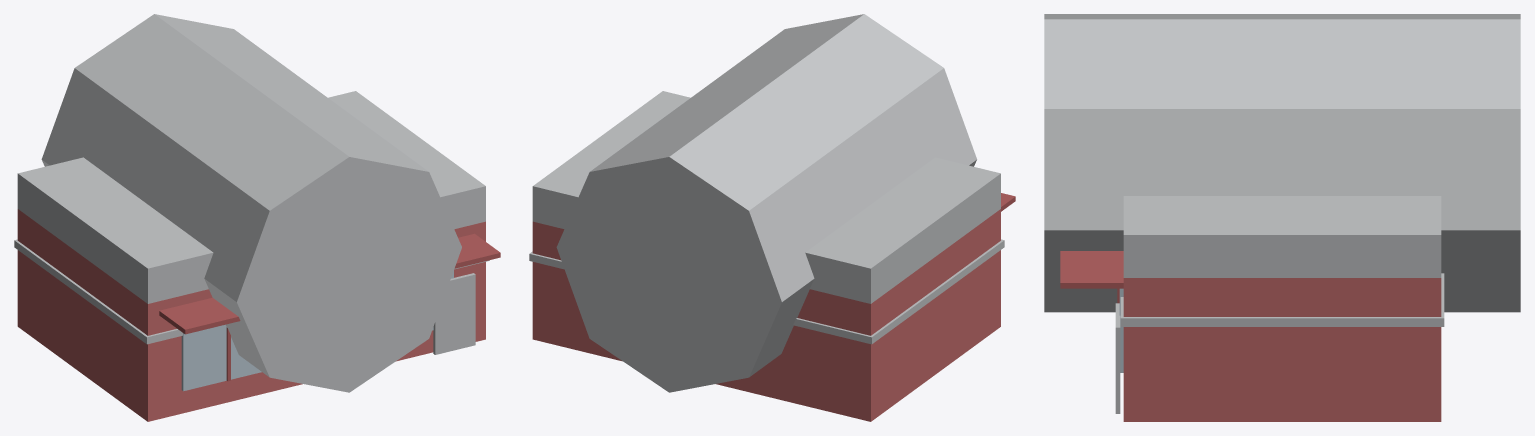
Rendered from building-diner.glb.
The picture shows the model from 3 angles, left to right: view 1: azimuth 30°, elevation 25°; view 2: azimuth 150°, elevation 25°; view 3: azimuth 270°, elevation 25°; orthographic projection. The views are drawn at different scales.
Visible parts, largest first — view 1: building-diner_part_3, building-diner_part_0, building-diner_part_2, building-diner_part_4, building-diner_part_8, building-diner_part_9, building-diner_part_1; view 2: building-diner_part_3, building-diner_part_0, building-diner_part_2, building-diner_part_1; view 3: building-diner_part_3, building-diner_part_0, building-diner_part_2, building-diner_part_1, building-diner_part_8, building-diner_part_9.
Part boxes in pixels (x1=…): building-diner_part_3: x1=41, y1=14, x2=461, y2=392; building-diner_part_0: x1=17, y1=209, x2=485, y2=421; building-diner_part_2: x1=17, y1=91, x2=485, y2=303; building-diner_part_4: x1=181, y1=271, x2=453, y2=391; building-diner_part_8: x1=159, y1=233, x2=500, y2=334; building-diner_part_9: x1=433, y1=273, x2=475, y2=354; building-diner_part_1: x1=14, y1=239, x2=489, y2=344; building-diner_part_3: x1=556, y1=14, x2=976, y2=392; building-diner_part_0: x1=532, y1=209, x2=1000, y2=421; building-diner_part_2: x1=532, y1=91, x2=1000, y2=303; building-diner_part_1: x1=529, y1=239, x2=1004, y2=344; building-diner_part_3: x1=1044, y1=14, x2=1520, y2=312; building-diner_part_0: x1=1123, y1=278, x2=1441, y2=421; building-diner_part_2: x1=1123, y1=196, x2=1441, y2=277; building-diner_part_1: x1=1120, y1=273, x2=1444, y2=326; building-diner_part_8: x1=1060, y1=251, x2=1123, y2=288; building-diner_part_9: x1=1115, y1=303, x2=1120, y2=413.
Bounding box in the file's own units: 15.2 × 10.5 × 15.
